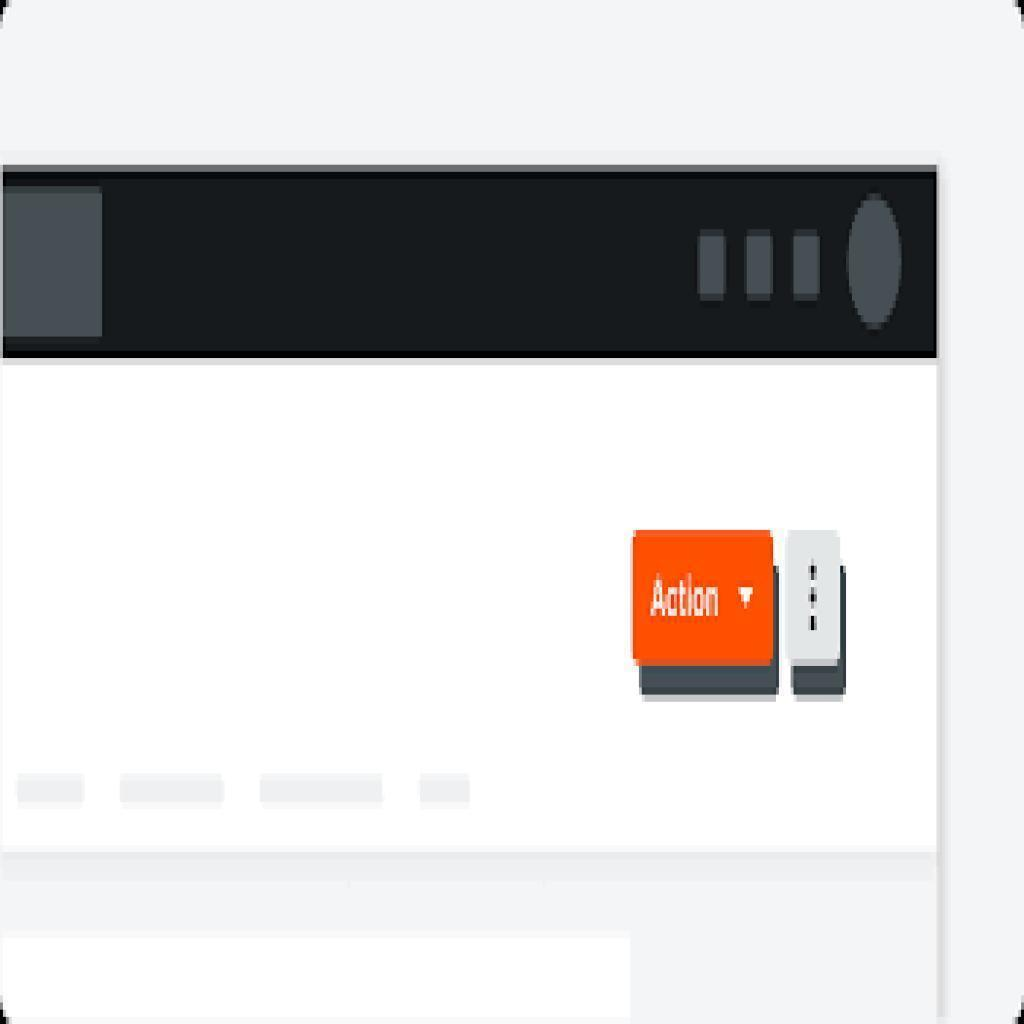dropdown: (631, 530, 775, 667)
icon: (799, 553, 827, 639)
